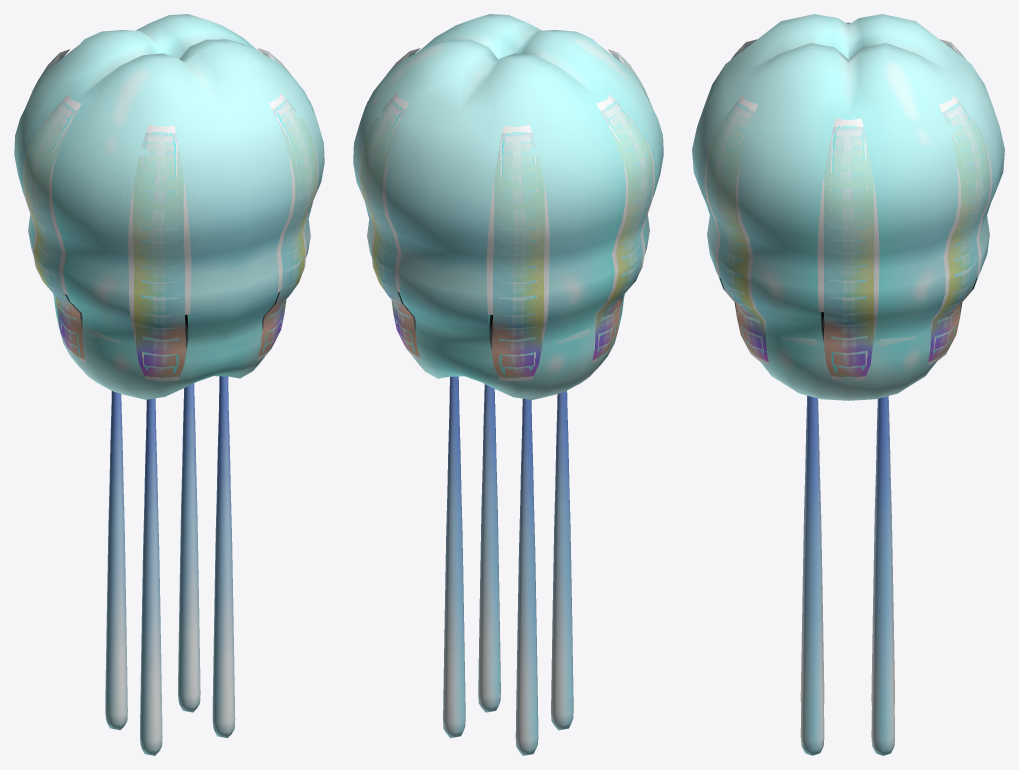
File: sqkpz_shuimu_caihongshuimu.FBX
3 renders of one model, left to right at view 1: azimuth 30°, elevation 25°; view 2: azimuth 150°, elevation 25°; view 3: azimuth 270°, elevation 25°, orthographic.
Visible parts, largest first — view 1: sqkpz_shuimu_caihongshuimu; view 2: sqkpz_shuimu_caihongshuimu; view 3: sqkpz_shuimu_caihongshuimu.
Boxes of the visible parts, x1,y1,x2,y2 form: sqkpz_shuimu_caihongshuimu: [14, 14, 324, 755]; sqkpz_shuimu_caihongshuimu: [353, 14, 663, 755]; sqkpz_shuimu_caihongshuimu: [692, 14, 1004, 755].
Size of the model in its own units: 67.15 by 163 by 65.75.
Materials: 2 (2 with a texture image).
